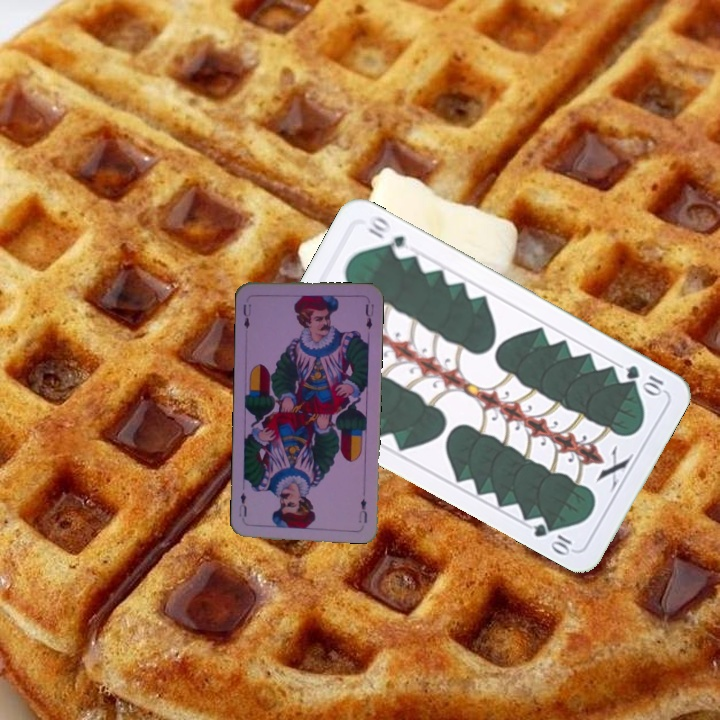EU: (239, 300, 254, 331), (355, 494, 369, 526)
G10: (622, 361, 667, 398)
